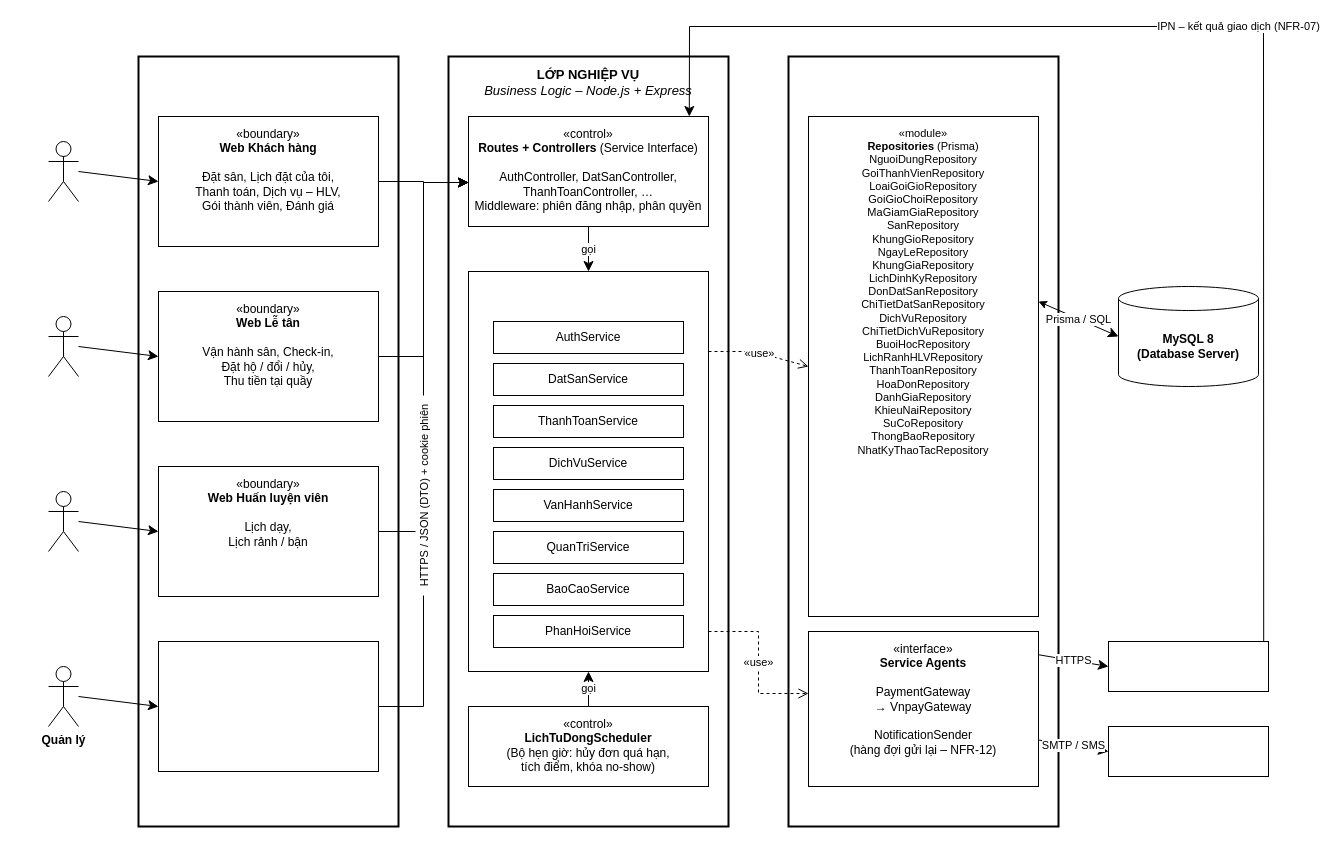
Some shapes in this 1338 by 845 pixel diagram are drawn without their labels. Here are the shapes that lost their labels. From the top down, the box of each, then its label:
(48, 140, 78, 202): Khách hàng (Khách vãng lai)
(48, 316, 78, 376): Nhân viên lễ tân
(137, 55, 399, 827): LỚP TRÌNH DIỄN Presentation – ReactJS
(787, 55, 1059, 827): LỚP TRUY CẬP DỮ LIỆU Data Access – Prisma ORM
(468, 270, 708, 672): «control» Application Services
(48, 490, 78, 552): Huấn luyện viên
(1108, 640, 1268, 692): Cổng thanh toán VNPAY
(158, 640, 378, 772): «boundary» Web Quản lý Quản trị hệ thống, Báo cáo thống kê, Xử lý khiếu nại
(1108, 726, 1268, 776): Dịch vụ SMS/Email
